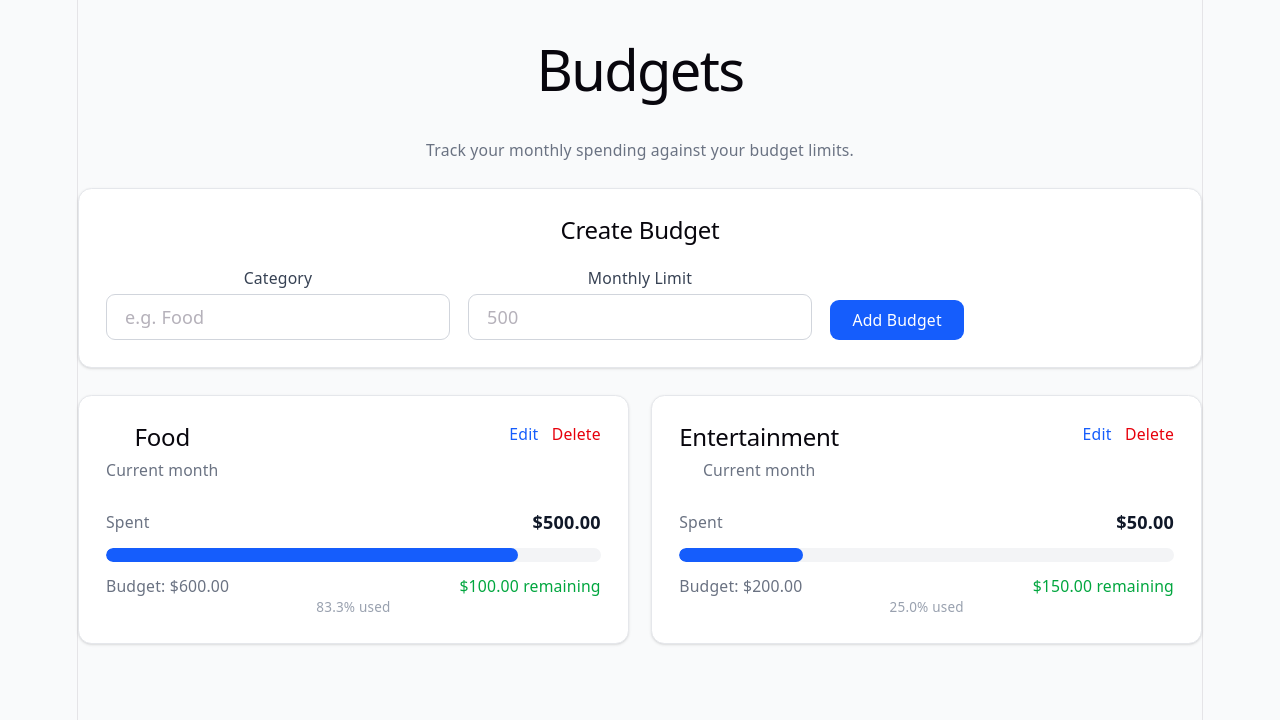
BudgetsPage › shows validation message for invalid budget
Click the button "Add Budget" at {"x": 897, "y": 320}, box x1=830 y1=300 x2=964 y2=340
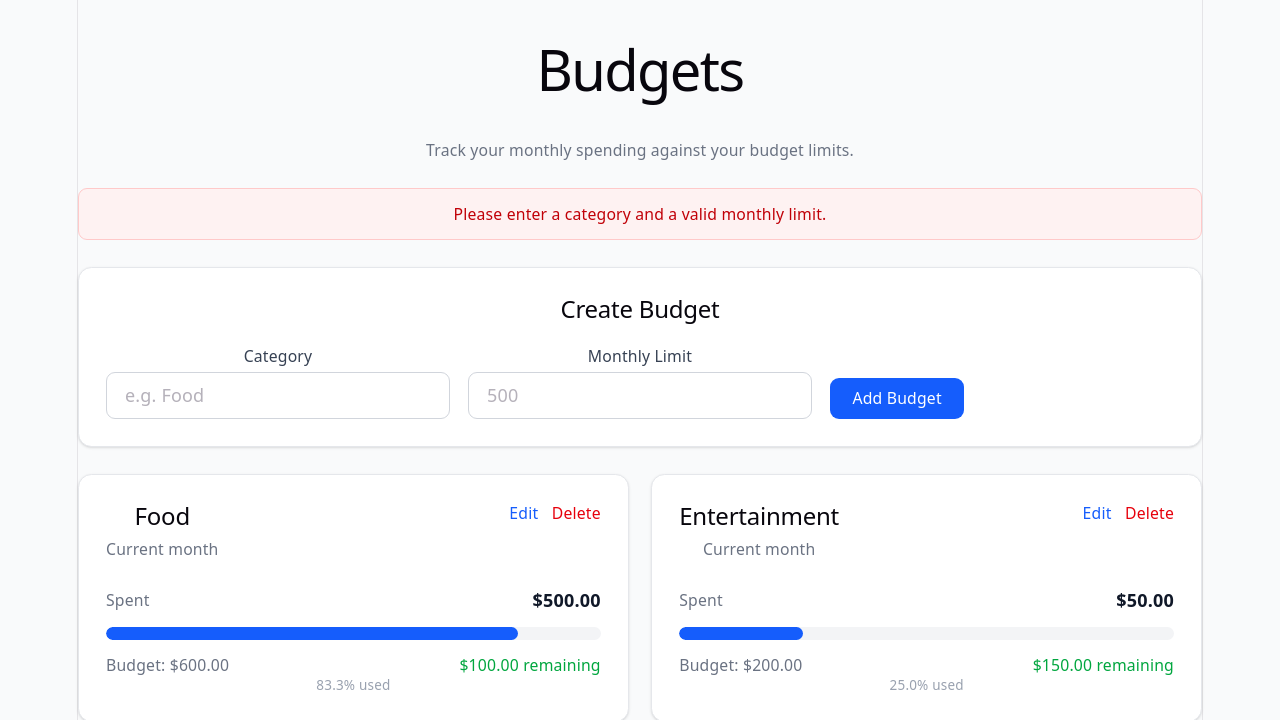
Expected: the message reads "Please enter a category and a valid monthly limit.", x1=454 y1=203 x2=826 y2=225
